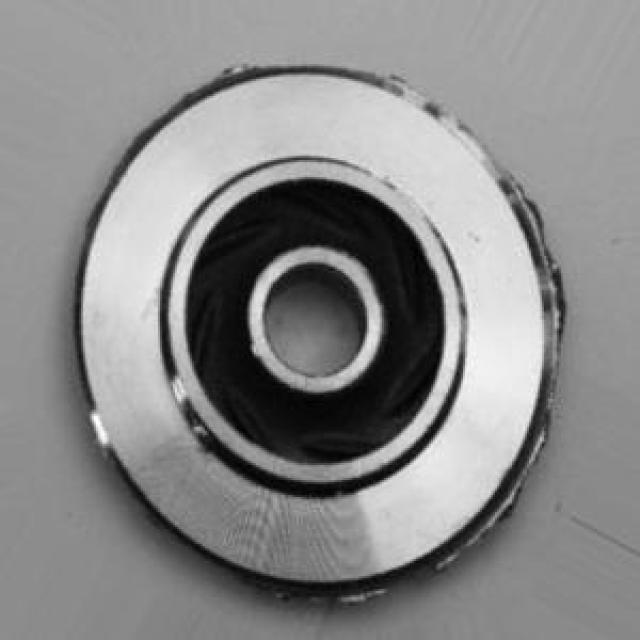Defect: (519, 173, 552, 247)
